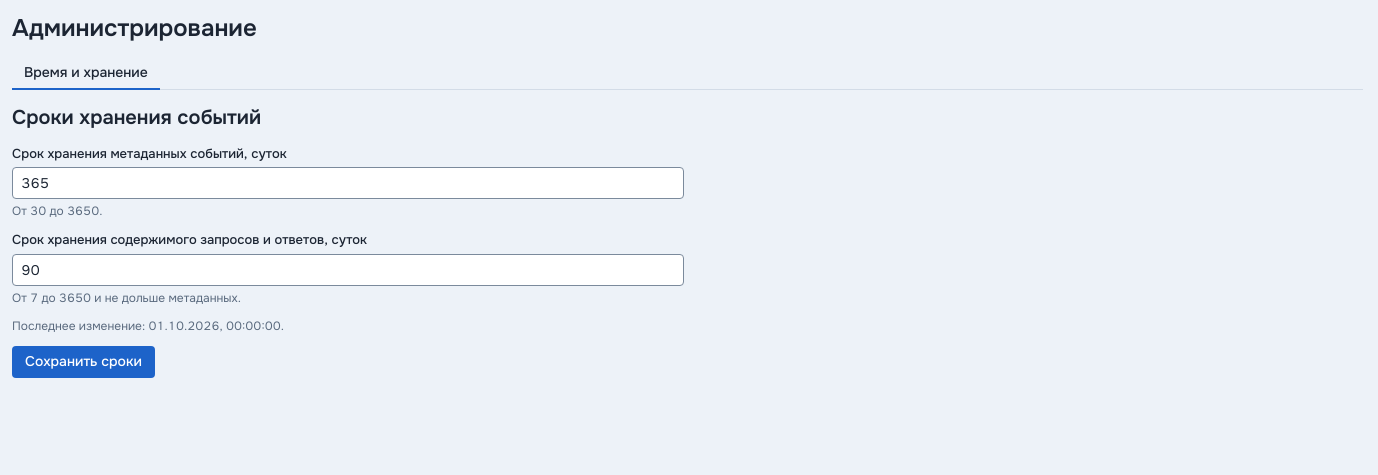
Scenario: сроки хранения › увеличение срока — без повторной проверки
Replace the text in the field labelled "Срок хранения содержимого запросов и ответов, суток" with "120" at x=348, y=270, box [12,254,684,286]
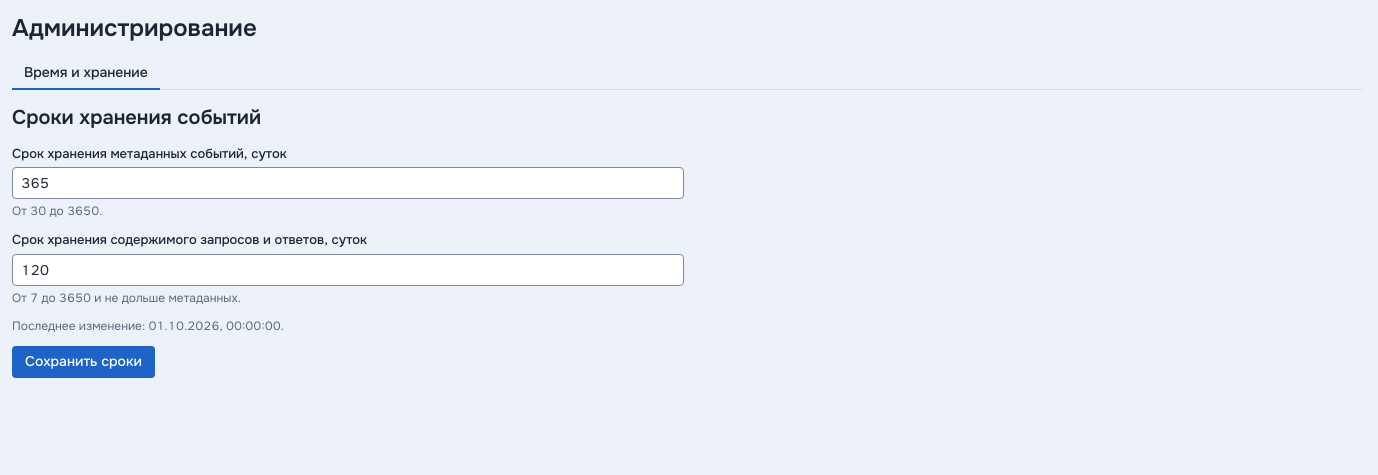
Replace the text in the field labelled "Срок хранения метаданных событий, суток" with "400" at x=348, y=183, box [12,167,684,199]
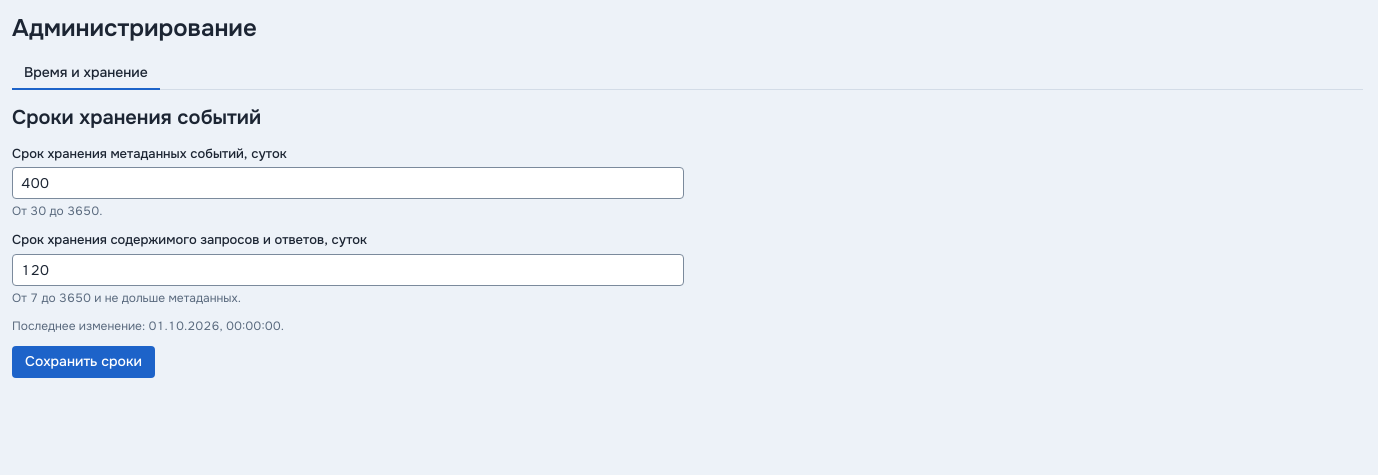
Click the button "Сохранить сроки" at x=83, y=362, box [12,346,155,378]
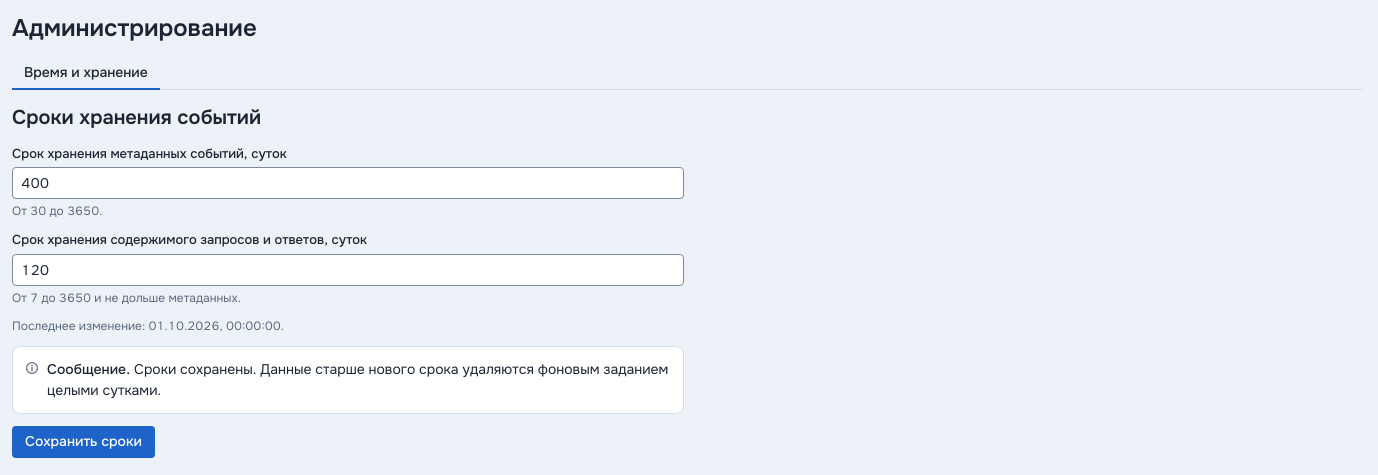
Expected: the text "Сроки сохранены" is shown, [47,360,668,399]
